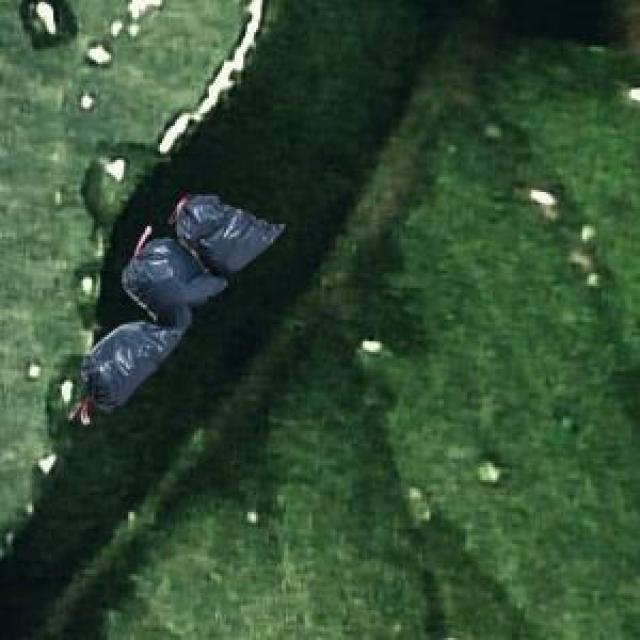waste: (81, 194, 284, 409)
